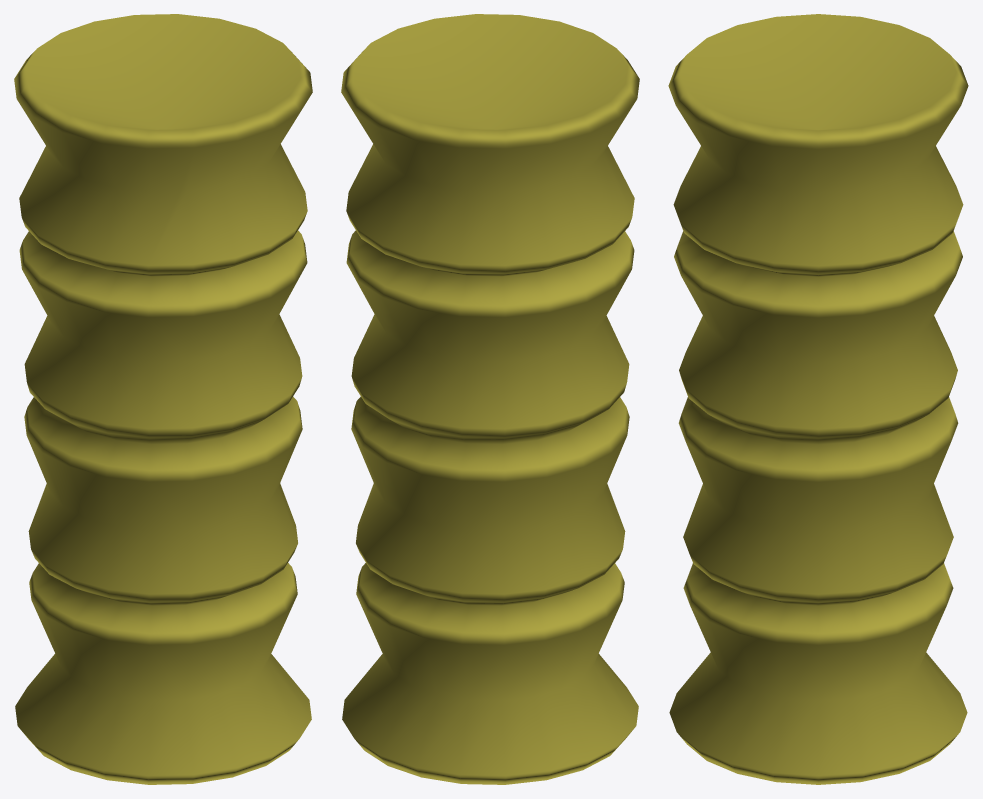
File: Bamboo Stick.fbx
3 renders of one model, left to right at view 1: azimuth 30°, elevation 25°; view 2: azimuth 150°, elevation 25°; view 3: azimuth 270°, elevation 25°, orthographic.
Parts seen in each view (by area): view 1: pCylinder1; view 2: pCylinder1; view 3: pCylinder1.
Boxes of the visible parts, bbox=[...] form: pCylinder1: bbox=[14, 14, 312, 784]; pCylinder1: bbox=[341, 14, 639, 784]; pCylinder1: bbox=[668, 14, 968, 784].
Bounding box in the file's own units: 6.28 × 15.1 × 6.28.
